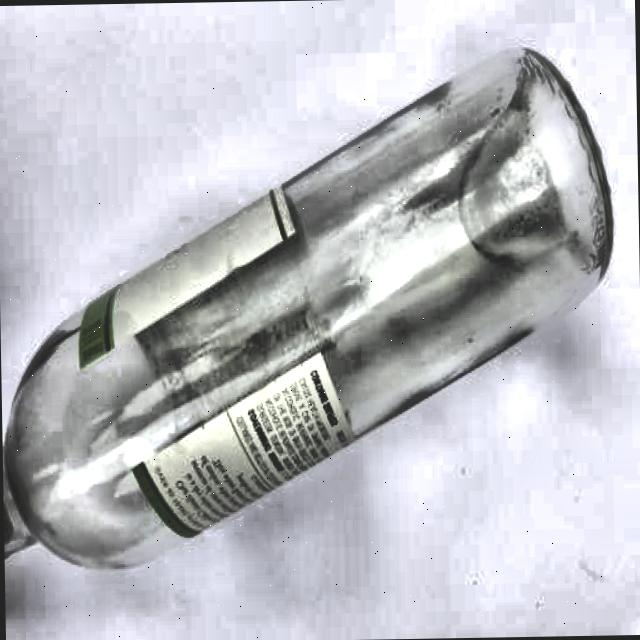glass: (0, 45, 623, 577)
